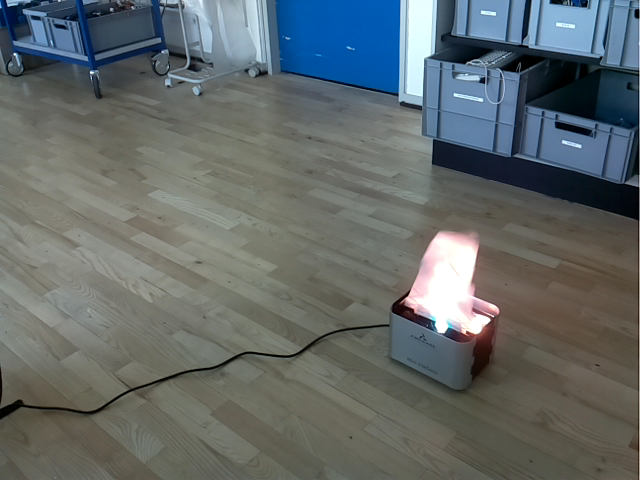fire: (405, 228, 483, 336)
